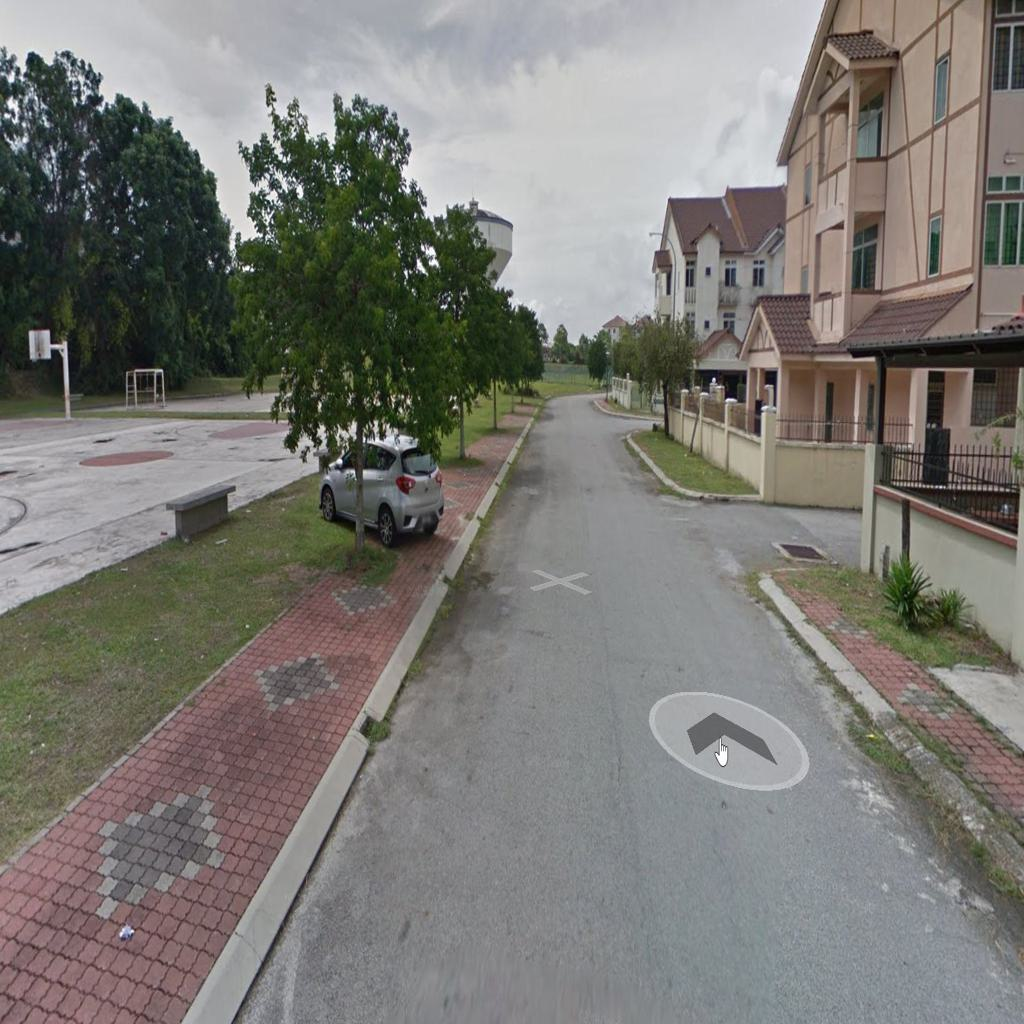Junction: (677, 460, 856, 611)
